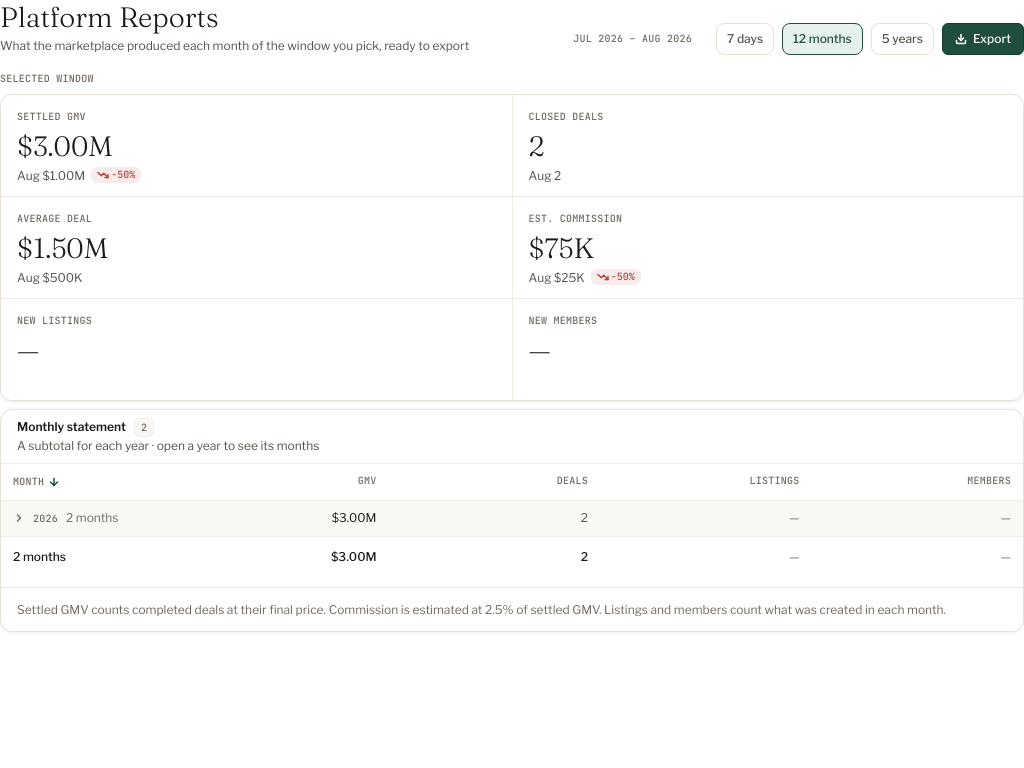
Test: AdminReportsConsole · exporting › downloads both tables for the window on screen
Click the button "Export".
click(983, 39)  # box x1=942 y1=23 x2=1023 y2=55
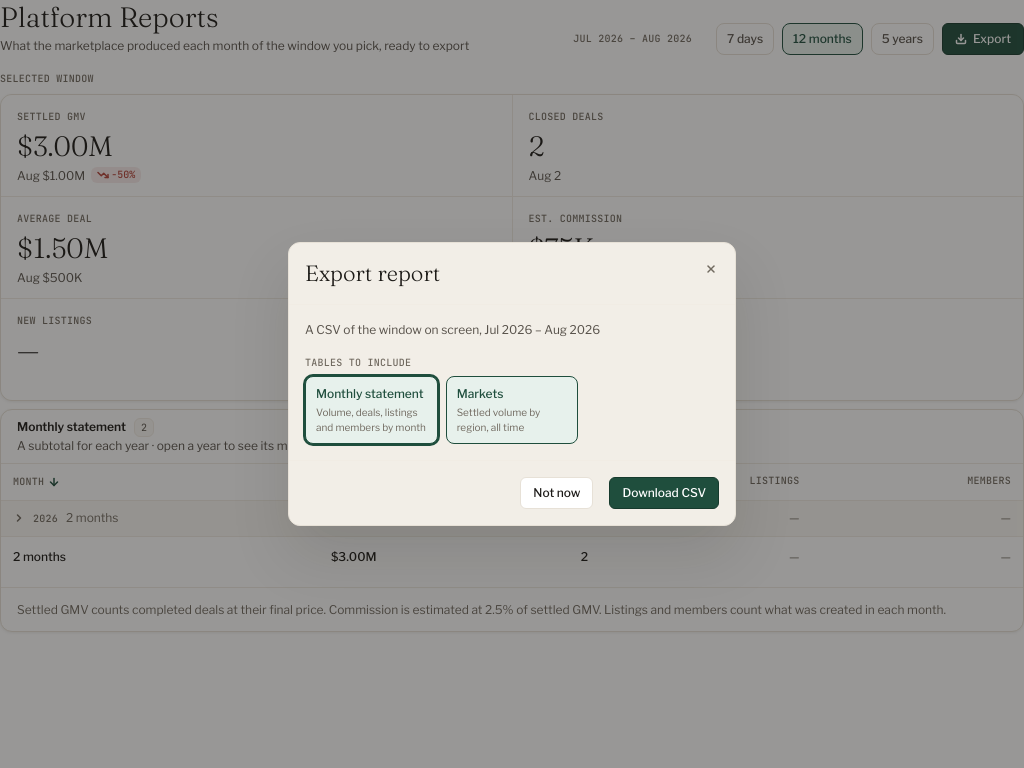
Click the button "Download CSV".
click(664, 493)  # box x1=609 y1=477 x2=719 y2=509
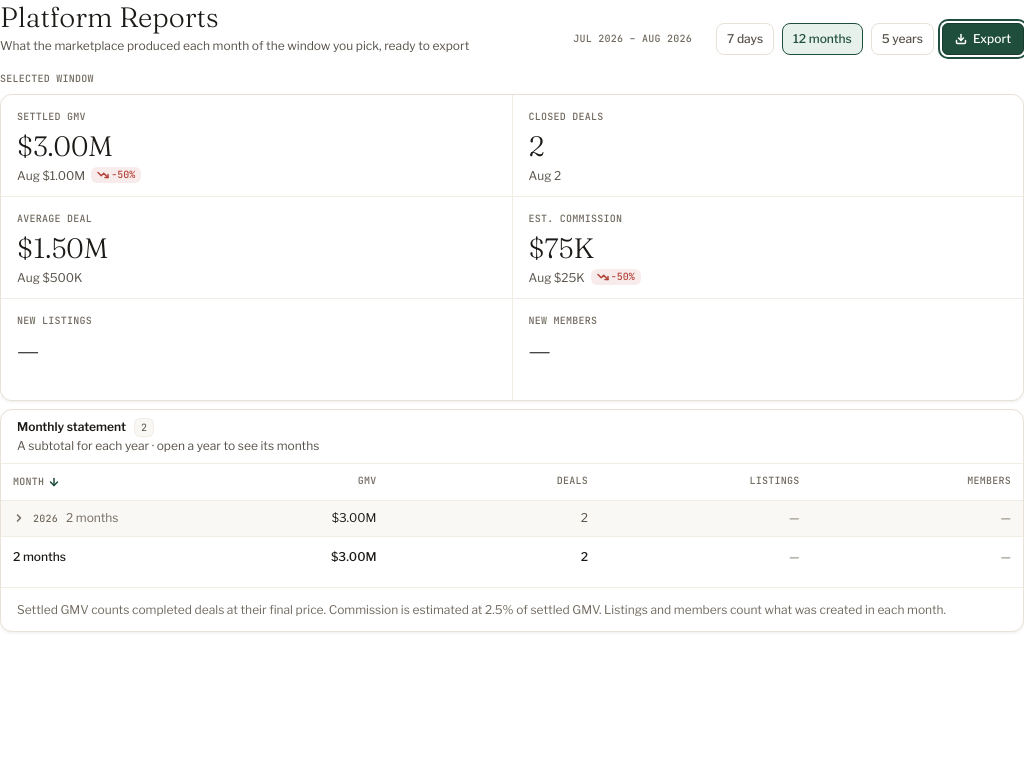
Result: the dialog is gone
